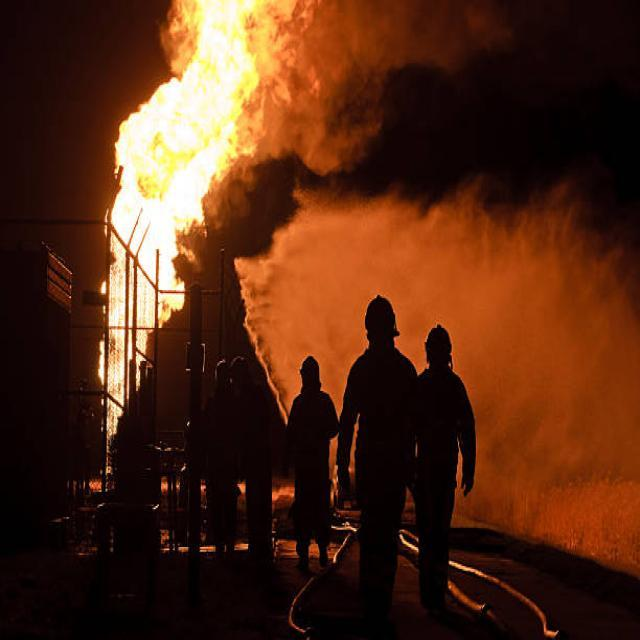Fire: (102, 0, 288, 331)
Smoke: (471, 222, 640, 573), (272, 0, 500, 185), (240, 194, 620, 284)
